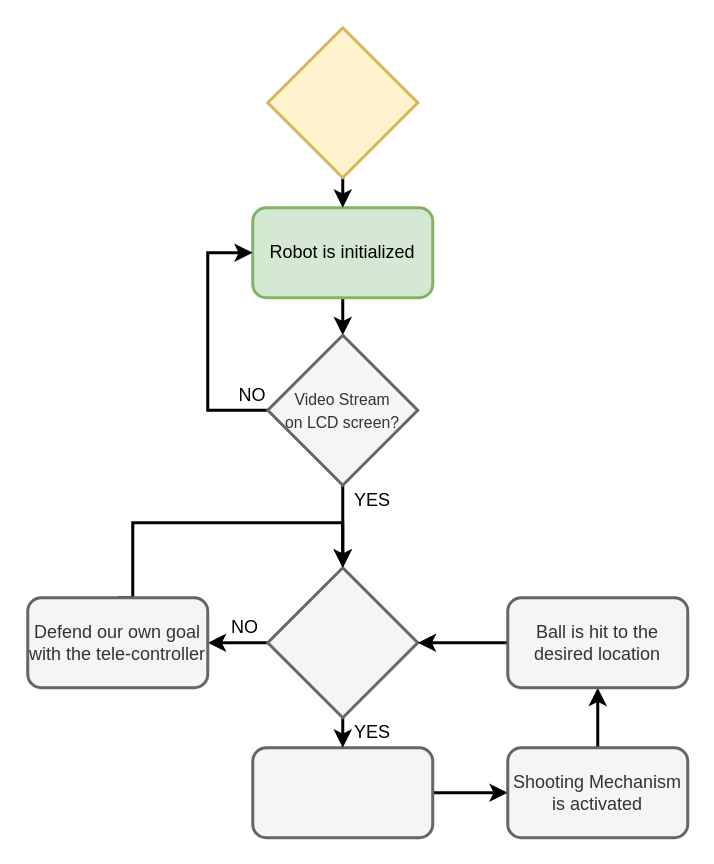
This 714x864 diagram has some shape labels left out. Each missing label, with the box of its shape:
Is the ball in our half field?: (266, 566, 418, 718)
Robot is driven towards the ball with the tele-controller: (250, 746, 434, 838)
Start Signal: (266, 26, 418, 178)
